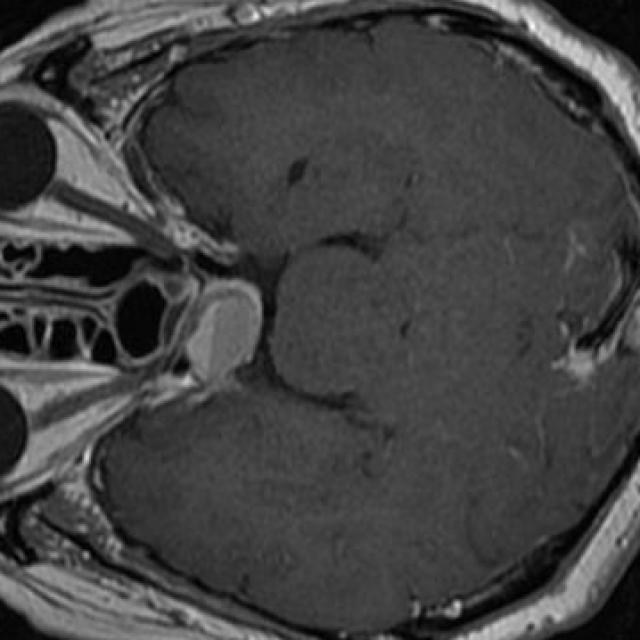pituitary: (189, 280, 264, 390)
